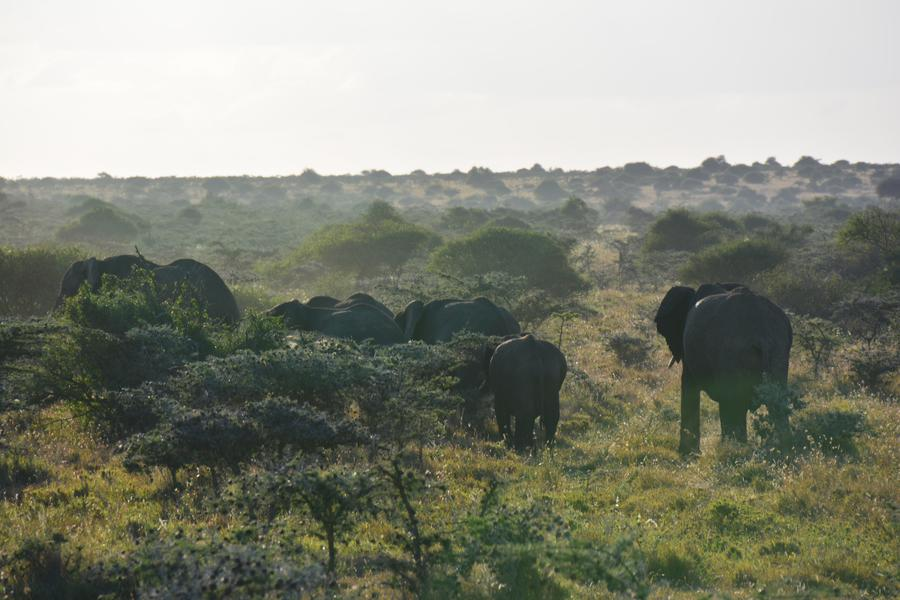elephant: (660, 280, 794, 444), (483, 333, 573, 440)
